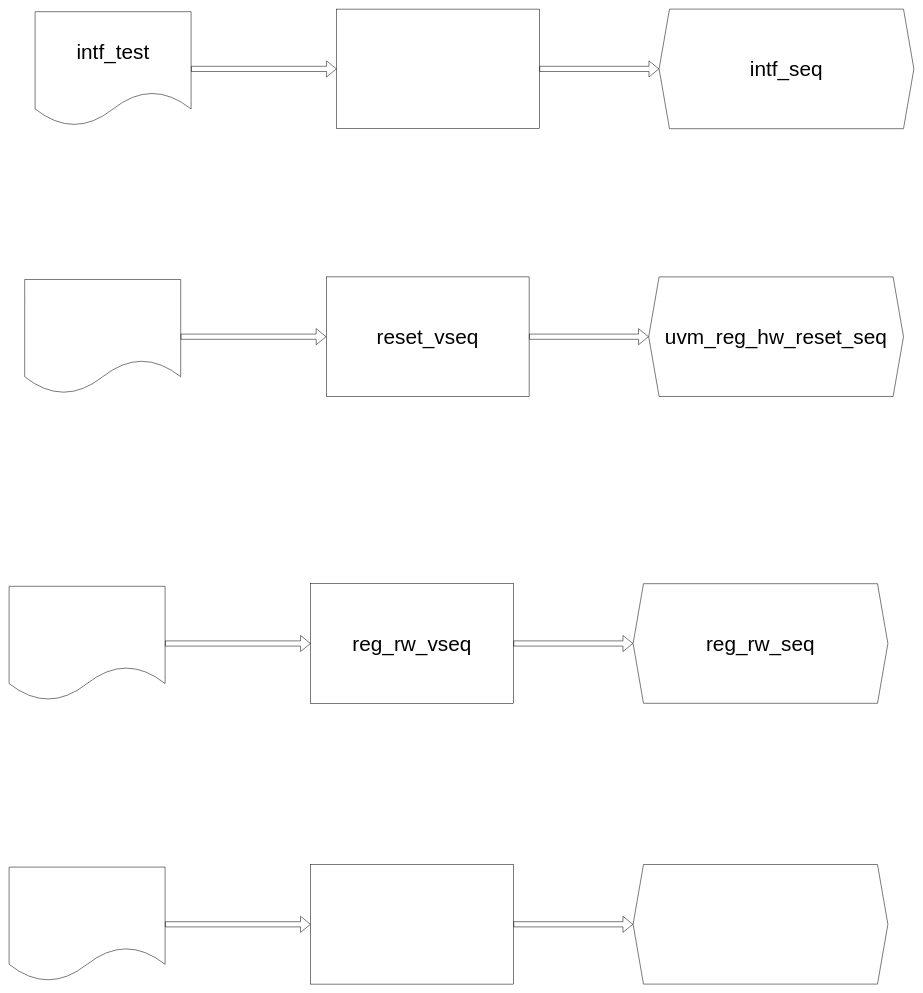
This 923x993 diagram has some shape labels left out. The box of each missing label's shape, as (x1, y1, x2, y2) in pixels:
intf_vseq: (336, 9, 540, 129)
reg_rw_test: (9, 586, 165, 701)
reset_test: (24, 279, 181, 394)
